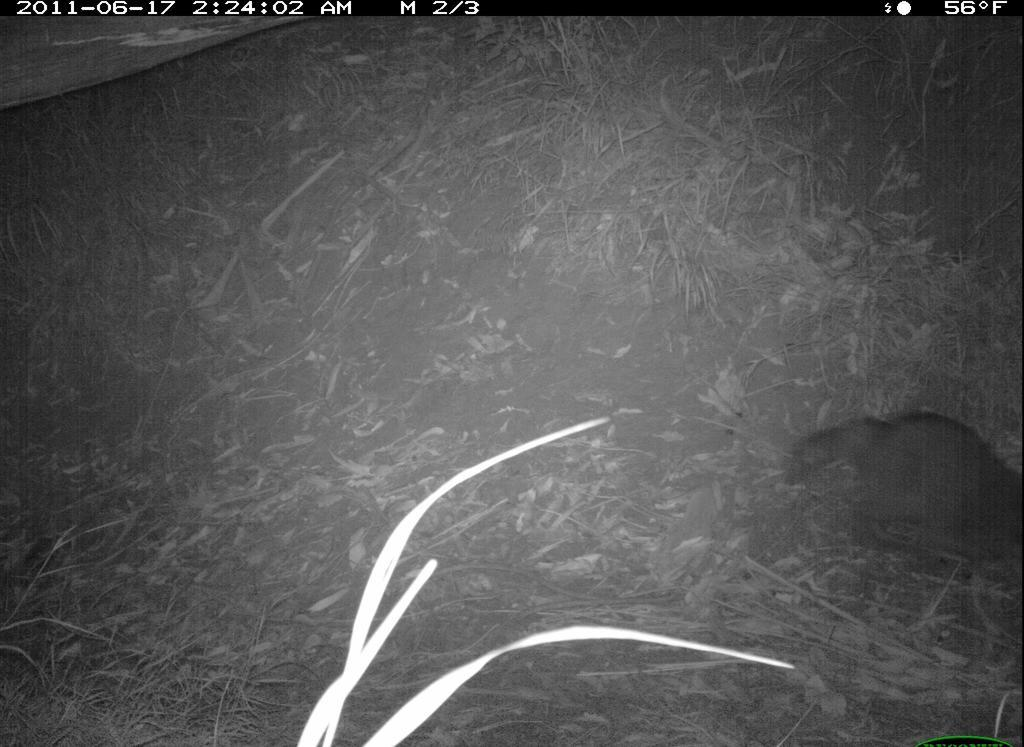raccoon: (772, 399, 1019, 583)
